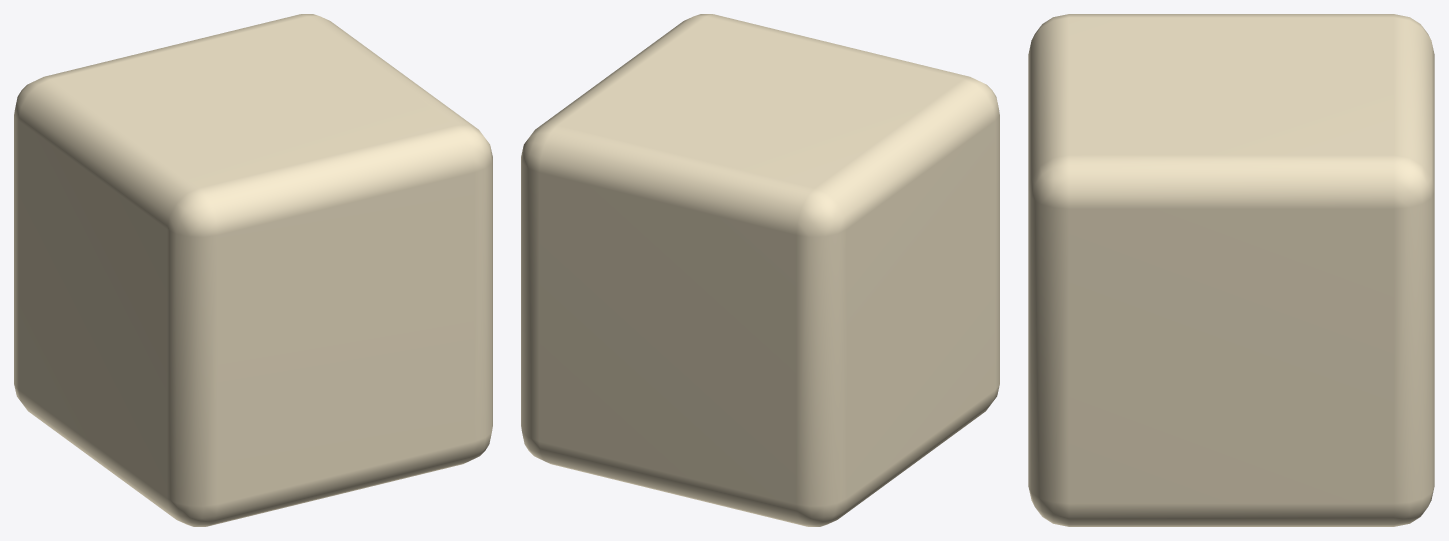
Rendered from dice_body_bevel.fbx.
3 views of the same model, side by side, from view 1: azimuth 30°, elevation 25°; view 2: azimuth 150°, elevation 25°; view 3: azimuth 270°, elevation 25° (orthographic). The views are drawn at different scales.
Visible parts, largest first — view 1: DiceBody; view 2: DiceBody; view 3: DiceBody.
Part boxes in pixels (x1,y1,x2,y2): DiceBody: (14,14,492,526); DiceBody: (521,14,999,526); DiceBody: (1028,14,1434,526).
Size of the model in its own units: 1 by 1 by 1.
